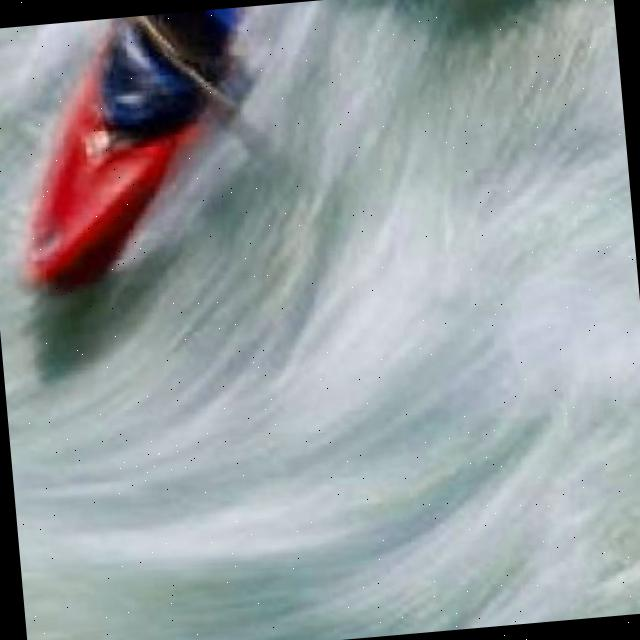kayak: (31, 52, 202, 277)
